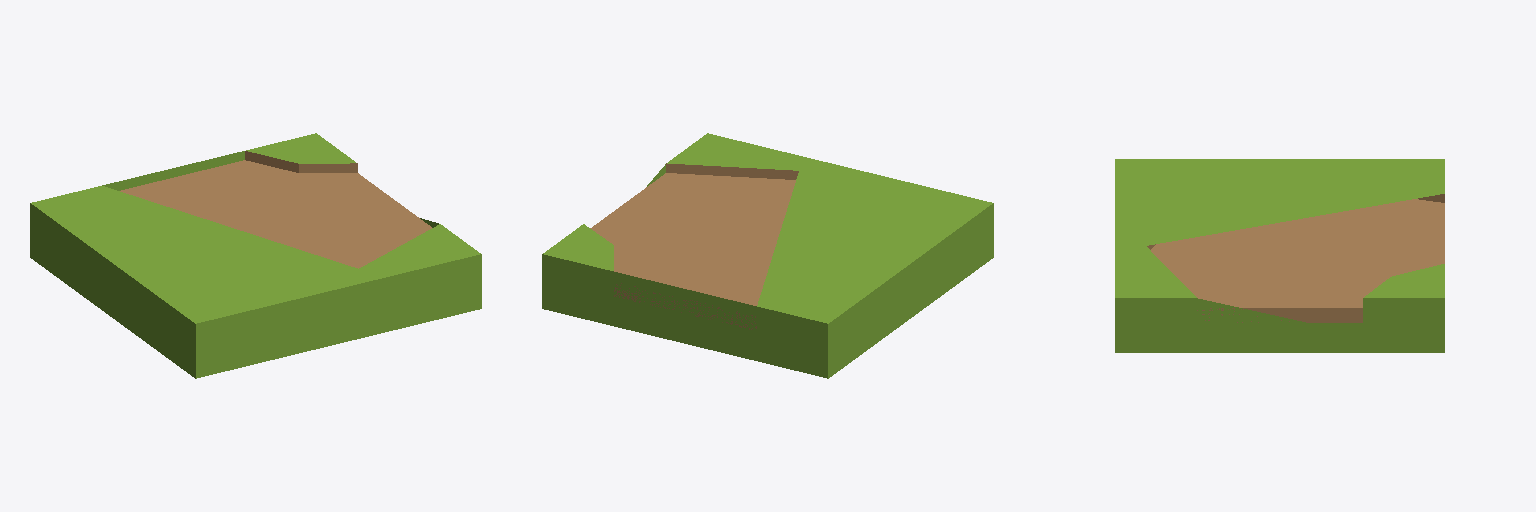
The picture shows the model from 3 angles: view 1: azimuth 30°, elevation 25°; view 2: azimuth 150°, elevation 25°; view 3: azimuth 270°, elevation 25°; orthographic projection.
Parts seen in each view (by area): view 1: roadTile_016.001; view 2: roadTile_016.001; view 3: roadTile_016.001.
Part boxes in pixels (x1,y1,x2,y2): roadTile_016.001: (30,133,481,378); roadTile_016.001: (542,133,993,378); roadTile_016.001: (1115,159,1444,352).
Bounding box in the file's own units: 3 × 0.55 × 3.